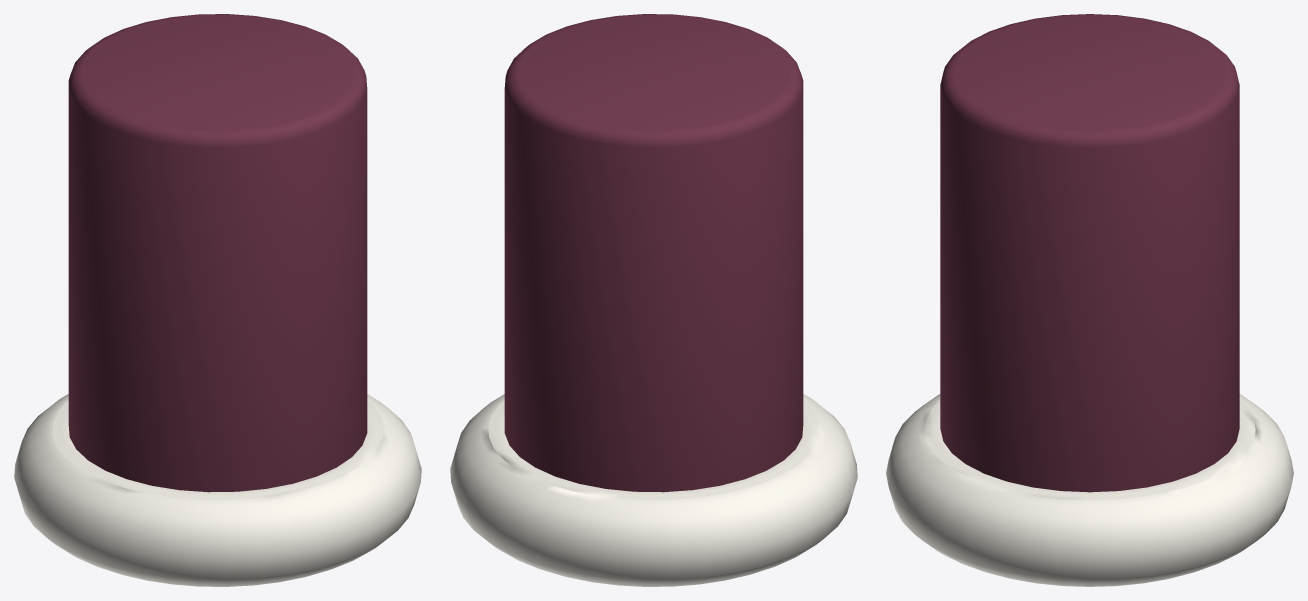
Rendered from sett_sleeve.glb.
The picture shows the model from 3 angles, left to right: view 1: azimuth 30°, elevation 25°; view 2: azimuth 150°, elevation 25°; view 3: azimuth 270°, elevation 25°; orthographic projection.
Parts seen in each view (by area): view 1: sett_sleeve; view 2: sett_sleeve; view 3: sett_sleeve.
Part boxes in pixels (x1,y1,x2,y2): sett_sleeve: [14, 14, 421, 586]; sett_sleeve: [450, 14, 857, 586]; sett_sleeve: [886, 14, 1293, 586].
Bounding box in the file's own units: 0.24 × 0.2887 × 0.24.
